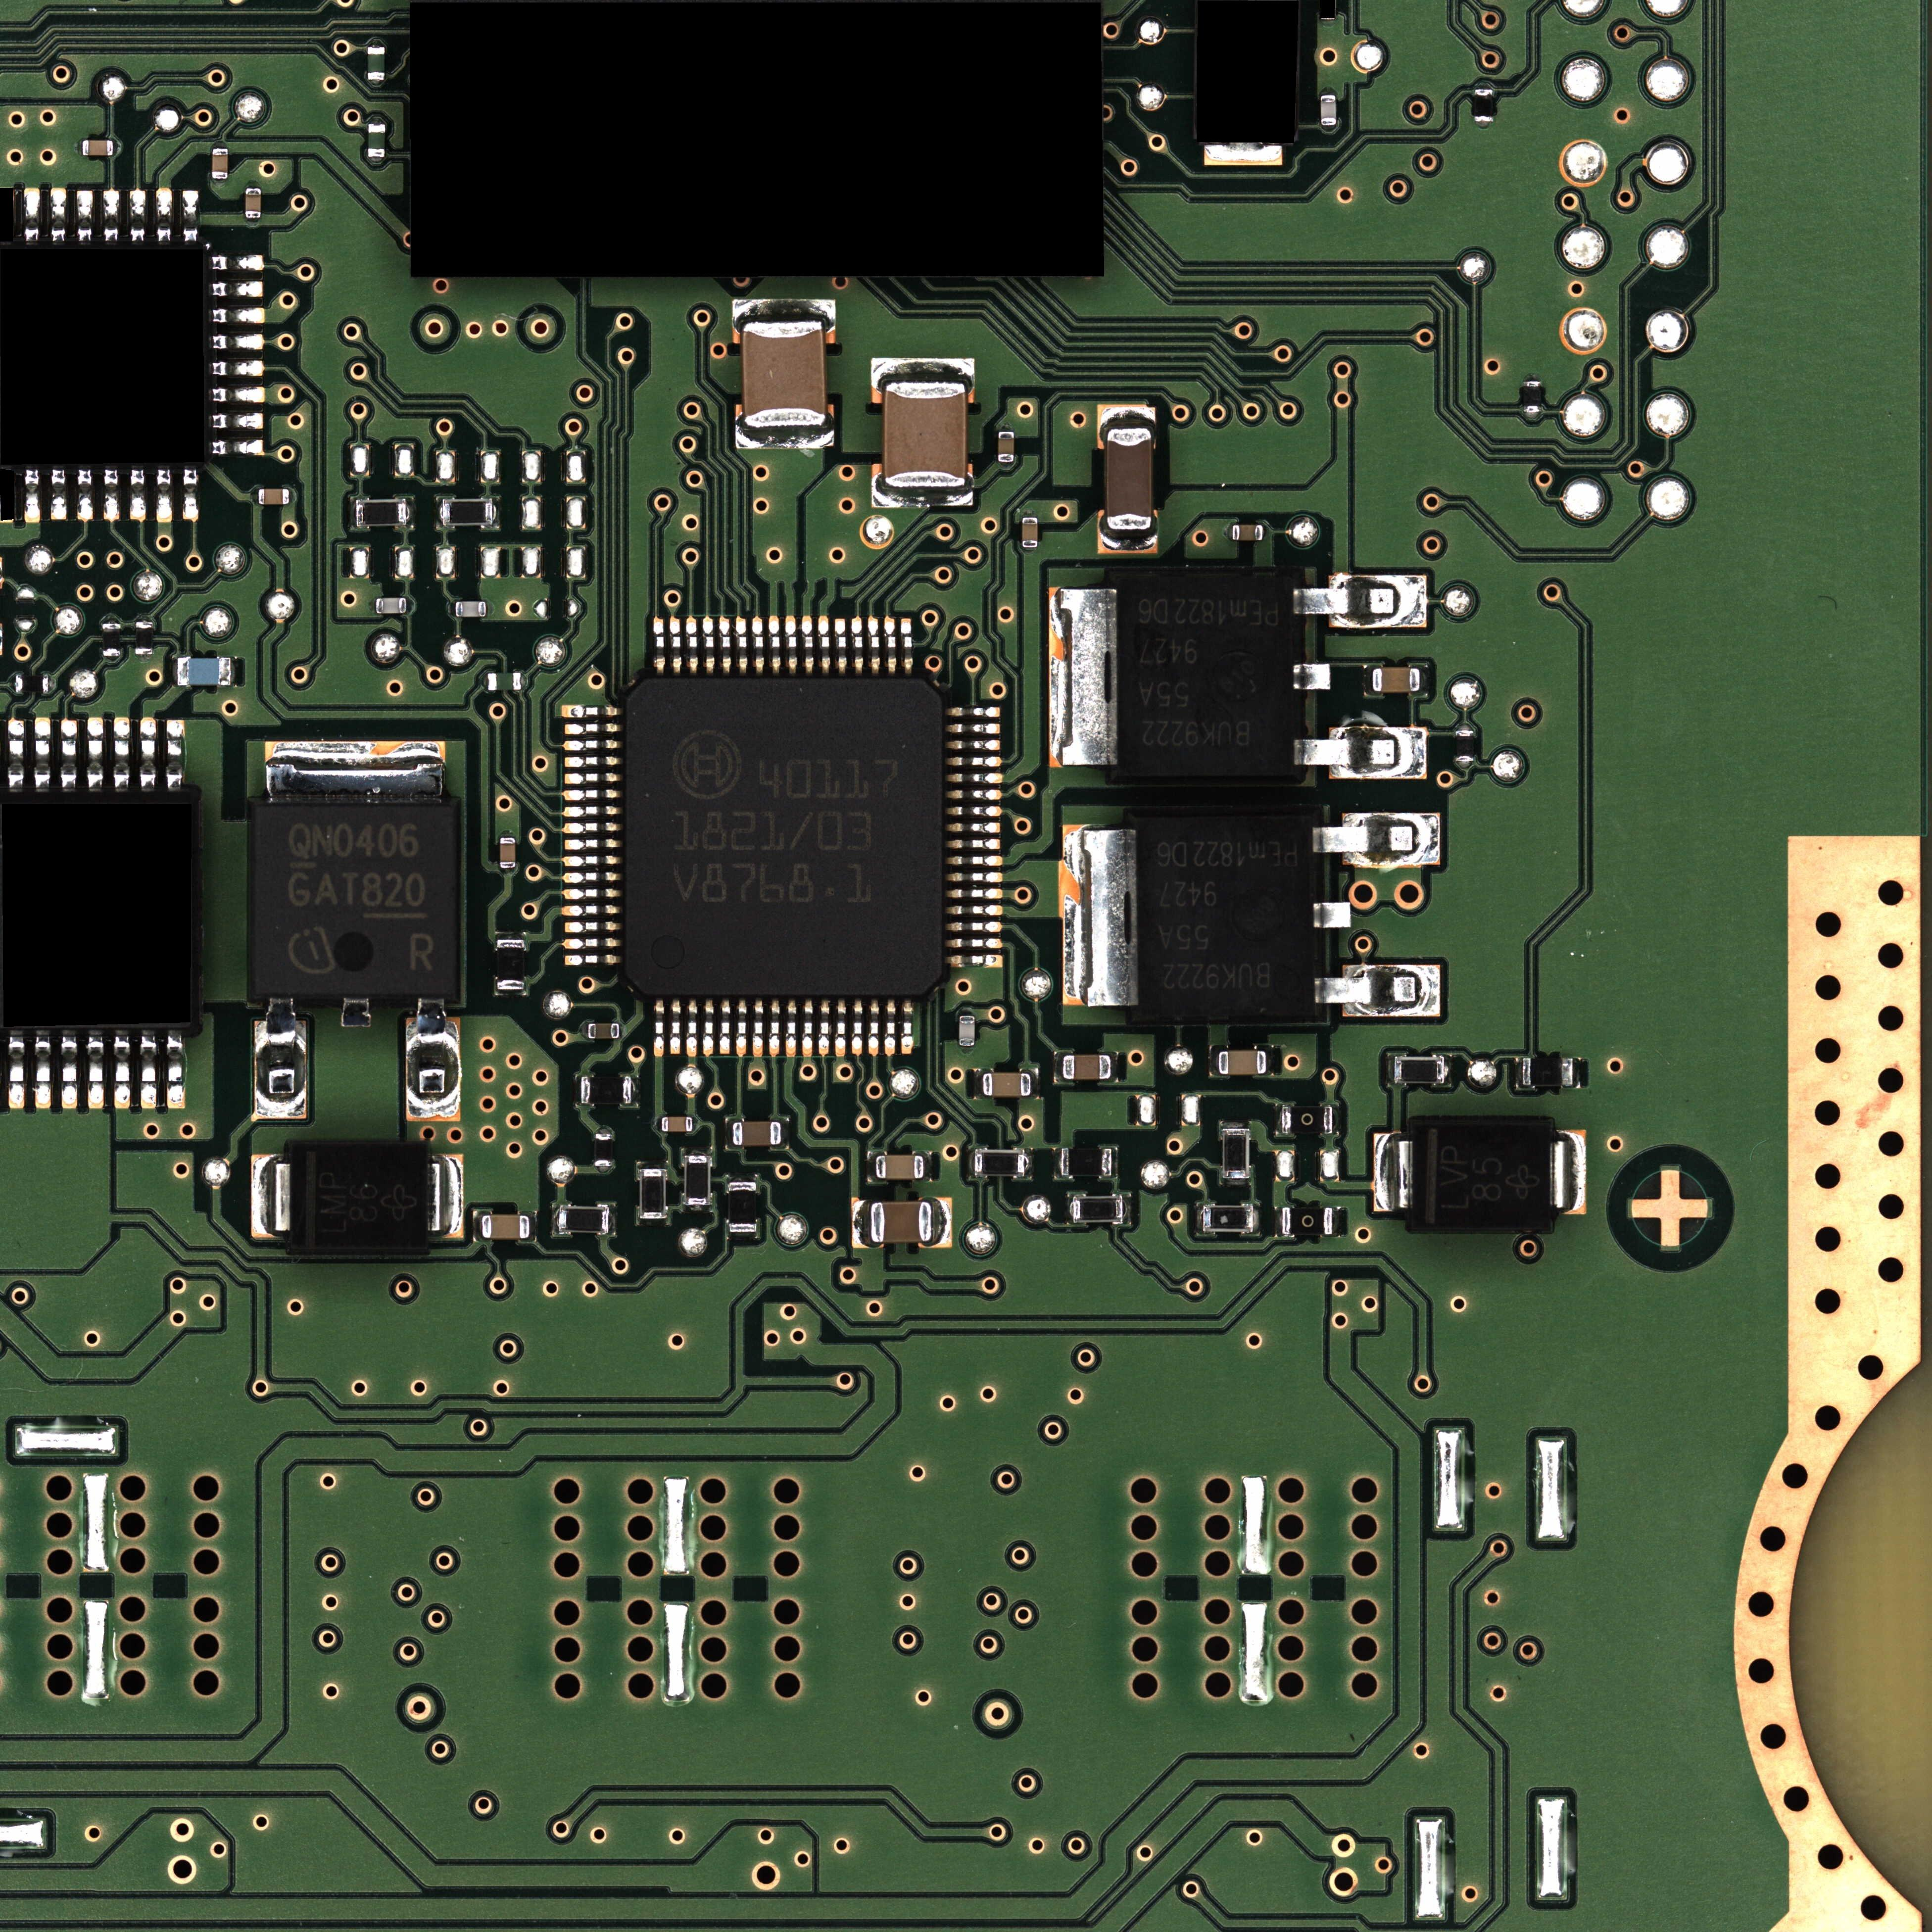Package: (621, 676, 947, 998), (255, 805, 459, 997), (1117, 577, 1294, 775), (1138, 818, 1314, 1016), (1412, 1121, 1553, 1230), (291, 1141, 428, 1250), (741, 322, 827, 428), (882, 383, 967, 487), (1105, 429, 1153, 530), (870, 1202, 932, 1243), (177, 657, 231, 685), (1522, 1058, 1573, 1087), (559, 1205, 608, 1234), (1062, 1147, 1111, 1177), (1282, 1106, 1333, 1134), (581, 1076, 631, 1104), (1282, 1207, 1333, 1235), (974, 1149, 1024, 1176), (497, 940, 525, 989), (729, 1182, 756, 1232), (1203, 1206, 1253, 1232), (1395, 1057, 1445, 1083), (356, 500, 406, 526), (442, 500, 492, 526), (1073, 1197, 1122, 1222), (1223, 1128, 1248, 1178), (640, 1169, 666, 1218), (685, 1156, 710, 1205), (732, 1121, 781, 1146), (1063, 1055, 1111, 1079), (1372, 667, 1420, 692), (481, 1214, 529, 1239), (1218, 1050, 1266, 1075), (876, 1155, 924, 1179), (983, 1072, 1031, 1097), (1474, 89, 1494, 122), (487, 673, 521, 691), (15, 675, 49, 693), (368, 124, 386, 157), (367, 47, 385, 81), (103, 623, 121, 656), (1456, 730, 1475, 762), (1523, 382, 1541, 414), (595, 1134, 613, 1166), (136, 622, 153, 654), (588, 1023, 620, 1039), (258, 488, 289, 505), (212, 148, 228, 179), (1022, 517, 1038, 548), (82, 140, 113, 155), (998, 432, 1014, 462), (500, 837, 516, 868), (1232, 525, 1263, 540), (661, 1116, 692, 1132), (376, 598, 406, 614), (455, 601, 485, 617), (959, 1015, 975, 1046), (1321, 95, 1336, 125), (245, 188, 261, 218)
Solder: (1063, 824, 1137, 1006), (1049, 587, 1117, 767), (265, 740, 444, 805), (1295, 726, 1427, 779), (1295, 575, 1427, 628), (1314, 813, 1439, 869), (405, 998, 460, 1120), (1314, 965, 1440, 1017), (253, 998, 307, 1118), (251, 1155, 290, 1238), (1373, 1133, 1412, 1212), (429, 1154, 464, 1239), (1551, 1130, 1586, 1215), (872, 358, 974, 380), (734, 299, 835, 321), (737, 428, 834, 449), (873, 488, 973, 507), (1205, 146, 1282, 165), (167, 1036, 185, 1109), (167, 719, 184, 788), (9, 1036, 25, 1109), (35, 1035, 50, 1108), (61, 1036, 77, 1109), (88, 1035, 103, 1108), (115, 1036, 130, 1109), (141, 1036, 156, 1109), (1102, 408, 1154, 428), (1103, 531, 1155, 551), (1294, 664, 1331, 690), (35, 718, 49, 788), (9, 720, 23, 789), (61, 719, 76, 788), (88, 718, 102, 787), (114, 718, 129, 787), (141, 718, 155, 787), (1314, 902, 1352, 928), (561, 704, 623, 718), (24, 468, 41, 522), (933, 1198, 951, 1246), (24, 188, 39, 241), (77, 188, 92, 241), (183, 188, 198, 241), (50, 188, 66, 241), (103, 188, 119, 241), (156, 189, 172, 241), (342, 998, 370, 1026), (131, 188, 145, 241), (157, 468, 172, 522), (78, 468, 93, 520), (131, 468, 145, 520), (104, 468, 119, 520), (51, 468, 66, 520), (211, 282, 263, 296), (212, 308, 264, 323), (212, 335, 265, 349), (212, 361, 264, 375), (212, 387, 265, 402), (213, 414, 265, 428), (213, 440, 266, 455), (211, 255, 263, 270), (184, 468, 198, 520), (562, 904, 622, 916), (854, 1200, 869, 1247), (902, 998, 914, 1055), (948, 955, 1002, 967), (561, 888, 622, 899), (562, 855, 622, 866), (562, 822, 622, 833), (869, 615, 880, 676), (686, 615, 698, 675), (769, 615, 780, 675), (563, 937, 622, 949), (653, 616, 665, 675), (703, 616, 715, 675), (819, 616, 830, 675), (564, 921, 622, 932), (564, 838, 622, 850), (564, 954, 622, 965), (561, 871, 622, 882), (562, 806, 622, 817), (565, 723, 622, 734), (803, 615, 814, 675), (786, 615, 797, 675), (562, 789, 622, 800), (803, 998, 814, 1058), (565, 756, 622, 767), (565, 772, 622, 783), (885, 616, 896, 676), (670, 616, 681, 675), (753, 616, 764, 675), (852, 616, 863, 675), (736, 616, 747, 675), (786, 998, 797, 1058), (563, 739, 622, 750), (720, 616, 731, 675), (687, 998, 698, 1057), (703, 998, 714, 1057), (654, 998, 665, 1057), (869, 998, 879, 1057), (819, 998, 830, 1057), (770, 998, 780, 1057), (720, 998, 730, 1056), (736, 998, 747, 1057), (753, 998, 764, 1057), (902, 618, 913, 676), (885, 998, 896, 1056), (670, 998, 681, 1056), (835, 999, 846, 1057), (836, 618, 847, 675), (852, 999, 863, 1056), (947, 707, 1000, 718), (948, 723, 1001, 733), (948, 739, 1001, 750), (948, 757, 1001, 768), (948, 773, 1001, 783), (948, 789, 1001, 800), (948, 888, 1001, 899), (948, 806, 1001, 817), (948, 821, 1001, 832), (948, 838, 1001, 849), (948, 856, 1001, 867), (948, 871, 1001, 882), (948, 905, 1001, 916), (948, 921, 1001, 932), (948, 938, 1001, 949), (974, 1068, 983, 1100), (1024, 1148, 1033, 1179), (726, 1232, 759, 1240), (868, 1151, 876, 1182), (966, 1148, 975, 1179), (1444, 1054, 1452, 1087), (1364, 665, 1372, 696), (1420, 664, 1428, 696), (682, 1147, 713, 1156), (1123, 1194, 1131, 1224), (1220, 1120, 1251, 1128), (473, 1211, 482, 1241), (1030, 1068, 1039, 1098), (637, 1161, 668, 1169), (726, 1174, 757, 1182), (631, 1075, 639, 1106), (608, 1204, 616, 1235), (1387, 1054, 1395, 1085), (1573, 1058, 1581, 1088), (1209, 1048, 1218, 1075), (406, 497, 414, 528), (1221, 1178, 1251, 1186), (923, 1152, 931, 1181), (1275, 1105, 1283, 1134), (1054, 1148, 1061, 1179), (1515, 1058, 1523, 1089), (1253, 1204, 1261, 1233), (682, 1206, 713, 1213), (552, 1205, 559, 1235), (349, 498, 356, 528), (781, 1118, 788, 1148), (529, 1211, 536, 1241), (726, 1118, 733, 1148), (1196, 1204, 1203, 1234), (1332, 1105, 1340, 1134), (1275, 1207, 1282, 1236), (1055, 1053, 1063, 1082), (1111, 1148, 1118, 1179), (435, 497, 442, 528), (492, 497, 499, 528), (495, 932, 526, 939), (575, 1075, 581, 1106), (638, 1219, 668, 1226), (495, 990, 527, 996), (1066, 1195, 1073, 1224), (1266, 1047, 1273, 1074), (1333, 1207, 1339, 1236), (1111, 1053, 1117, 1081), (172, 657, 178, 686), (1474, 81, 1494, 90), (406, 597, 416, 614), (231, 657, 236, 686), (48, 675, 56, 693), (367, 38, 386, 47), (1523, 374, 1542, 382), (74, 139, 83, 156), (1319, 86, 1337, 95), (368, 116, 386, 124), (1474, 122, 1493, 130), (101, 616, 121, 623), (499, 829, 516, 837), (1224, 524, 1232, 541), (481, 672, 488, 691), (113, 140, 121, 156), (580, 1022, 588, 1039), (958, 1007, 975, 1015), (245, 218, 261, 227), (486, 601, 494, 617), (653, 1116, 662, 1132), (997, 462, 1014, 470), (1523, 413, 1541, 421), (8, 674, 16, 692), (102, 656, 121, 663), (212, 141, 229, 148), (368, 598, 376, 614), (1320, 125, 1337, 133), (619, 1022, 627, 1039), (998, 423, 1014, 431), (368, 157, 385, 165), (251, 488, 258, 505), (958, 1046, 975, 1054), (135, 615, 153, 622), (1456, 762, 1474, 769), (1320, 20, 1338, 27), (245, 181, 261, 189), (447, 601, 455, 617), (135, 655, 153, 662), (594, 1166, 612, 1173), (289, 488, 296, 505), (499, 868, 516, 875), (1263, 524, 1270, 540), (1021, 510, 1038, 517), (368, 80, 385, 87), (595, 1127, 612, 1134), (692, 1116, 700, 1132), (521, 673, 528, 690), (1021, 548, 1038, 555), (1456, 724, 1474, 730)
